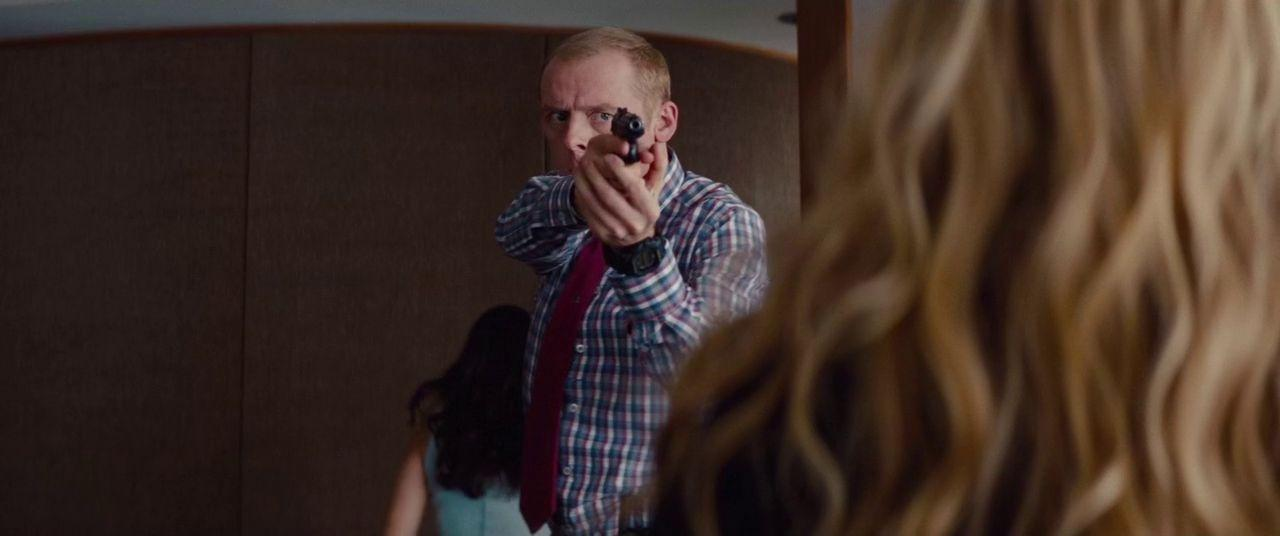gun: (601, 93, 644, 161)
